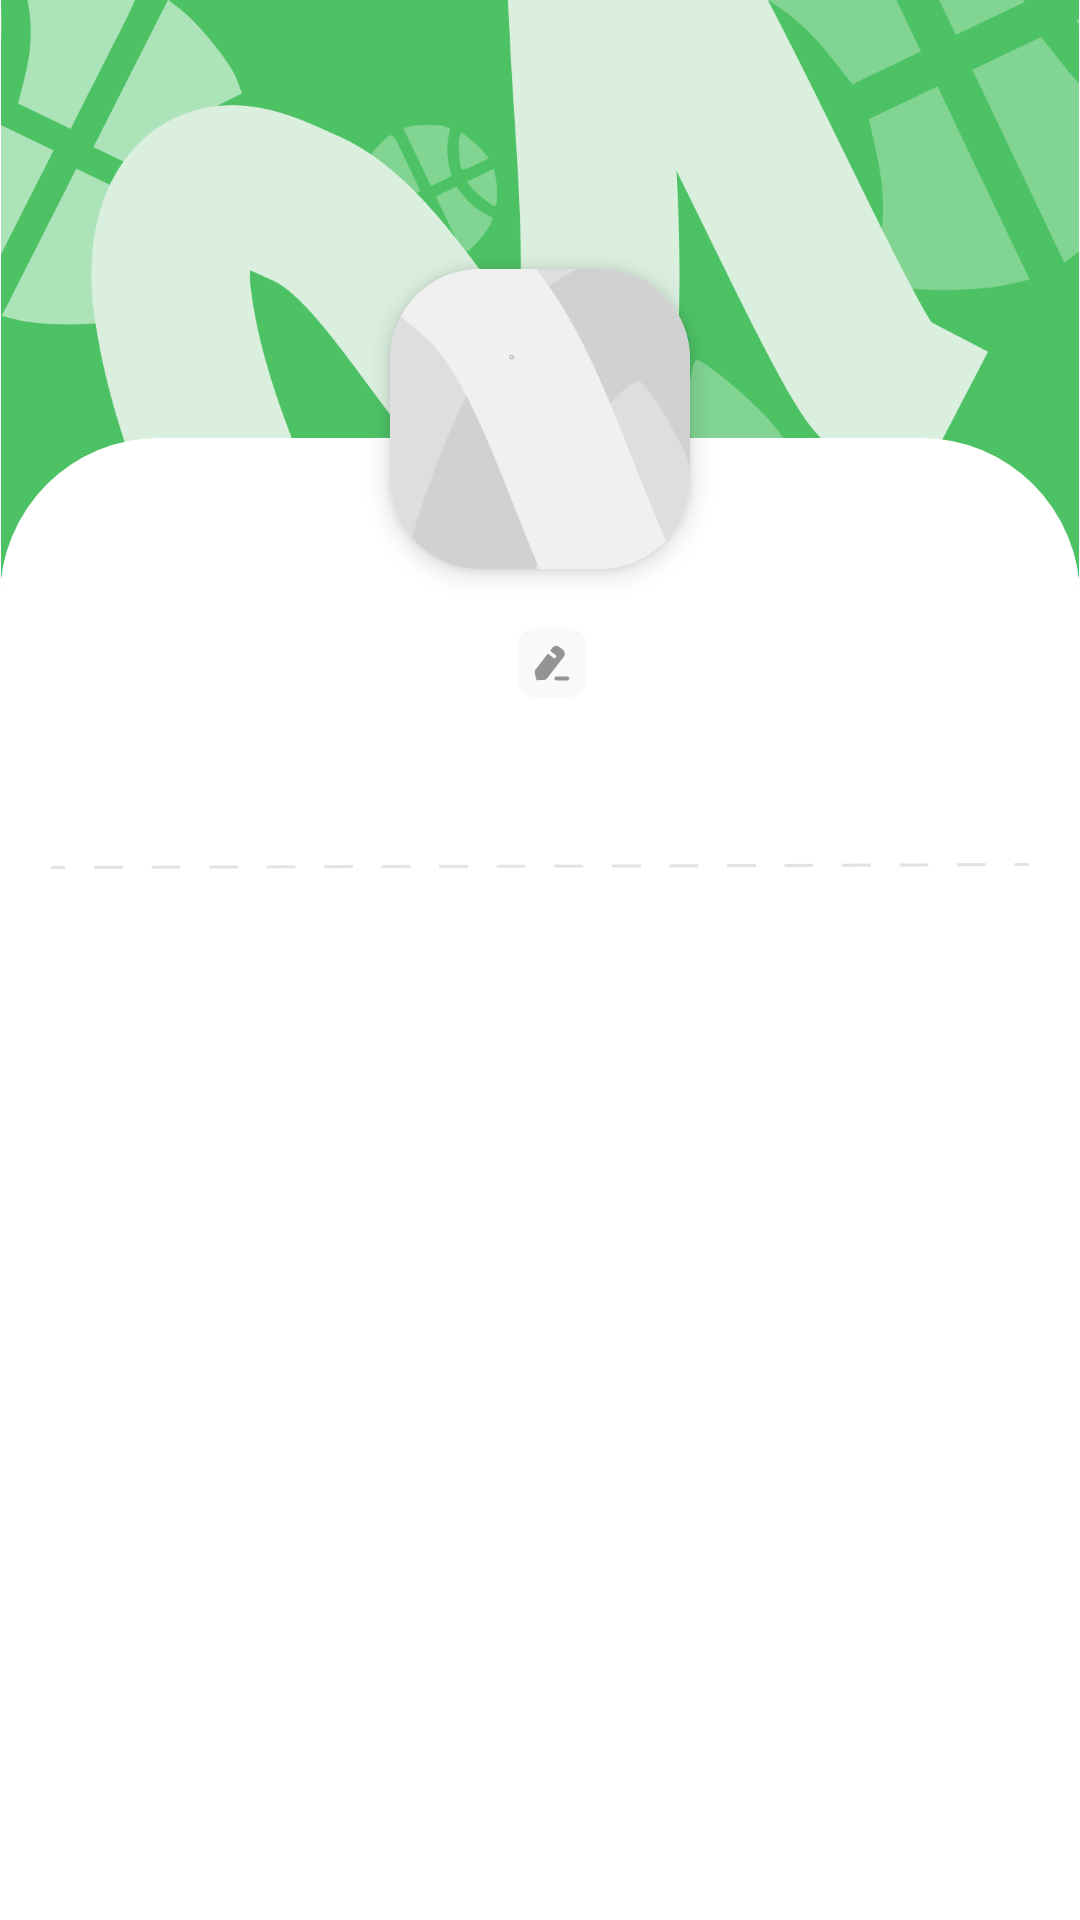

Screen size 1080 x 1920. Icon name, then its center in pixels as (x=x, y=y):
edit profile: (x=552, y=663)
